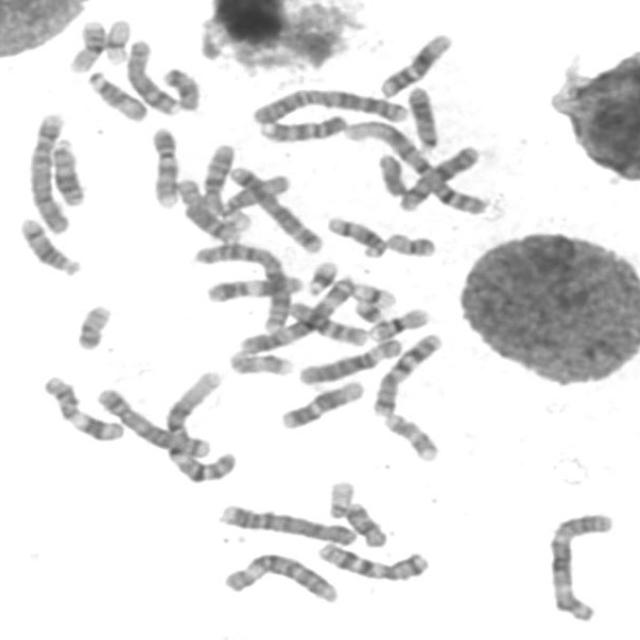A1: (338, 116, 490, 216), (158, 365, 241, 485)
A2: (188, 237, 293, 333), (246, 82, 412, 126)
A3: (231, 272, 358, 356), (541, 506, 617, 623)
B4: (212, 500, 360, 547), (22, 108, 74, 235)
B5: (223, 160, 324, 254), (92, 383, 212, 458)
C10: (283, 295, 372, 348), (196, 139, 238, 214)
C11: (37, 369, 129, 444), (200, 268, 304, 305)
C12: (375, 28, 455, 99), (276, 374, 367, 430)
C6: (218, 548, 342, 605), (293, 333, 405, 387)
C7: (367, 328, 446, 418), (312, 537, 431, 583)
C8: (121, 34, 183, 117), (172, 174, 244, 245)
C9: (144, 122, 182, 209), (254, 110, 349, 144)
D13: (45, 133, 88, 208), (401, 81, 441, 152)
D14: (13, 212, 83, 277), (322, 211, 388, 259)
D15: (214, 168, 292, 218), (82, 66, 150, 123)
E16: (364, 302, 432, 342), (63, 14, 108, 74)
E17: (378, 408, 441, 462), (224, 346, 295, 378)
E18: (340, 497, 390, 548), (157, 62, 202, 113)
F19: (98, 13, 134, 66), (346, 278, 399, 310)
F20: (70, 299, 114, 352), (381, 227, 438, 258)
G21: (300, 255, 341, 298), (348, 295, 386, 324)
G22: (209, 198, 260, 234), (322, 474, 356, 520)
X: (393, 139, 484, 213)
Y: (372, 148, 410, 197)
